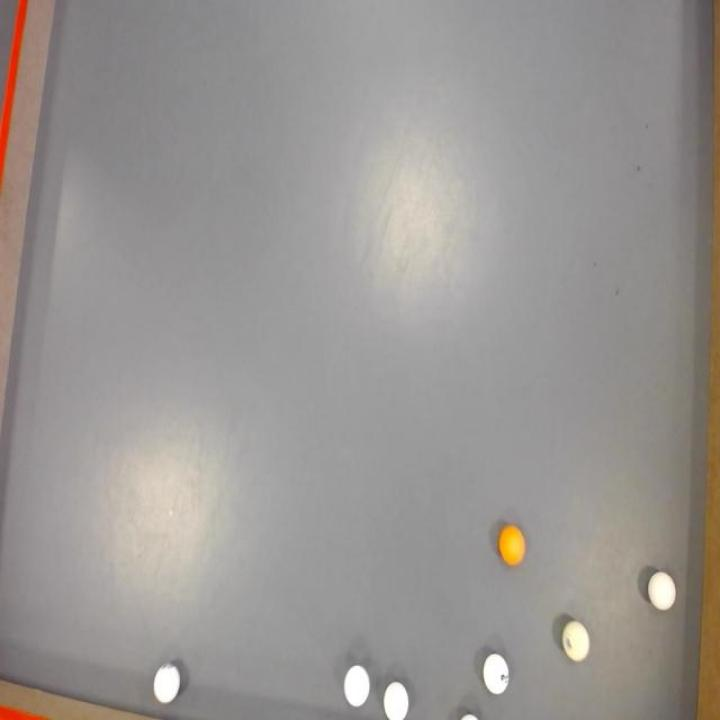orange: (497, 522, 528, 566)
white: (646, 566, 678, 615), (481, 648, 510, 696), (152, 658, 180, 704), (344, 664, 373, 708), (562, 618, 590, 662), (383, 680, 408, 720)
